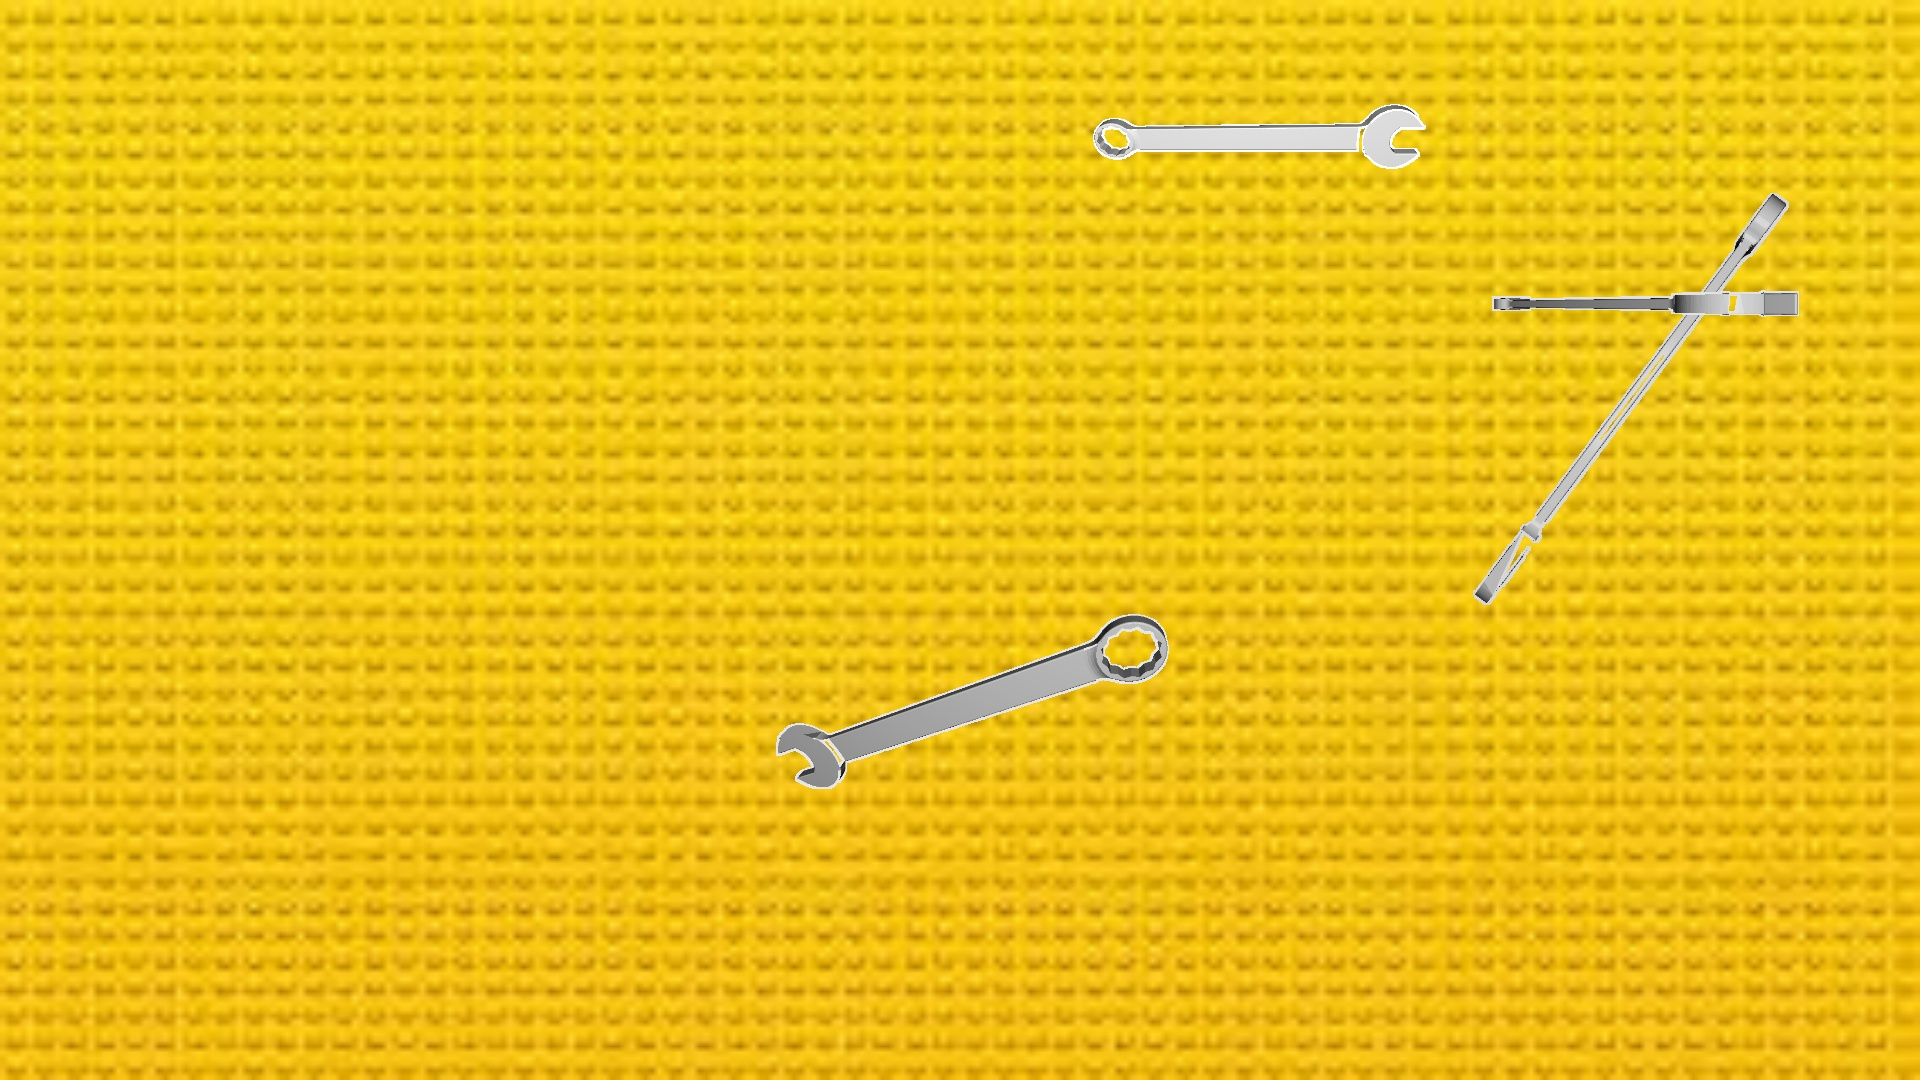Mixed Key: (1473, 193, 1788, 604), (775, 615, 1168, 789), (1093, 104, 1425, 167), (1491, 290, 1797, 316)
